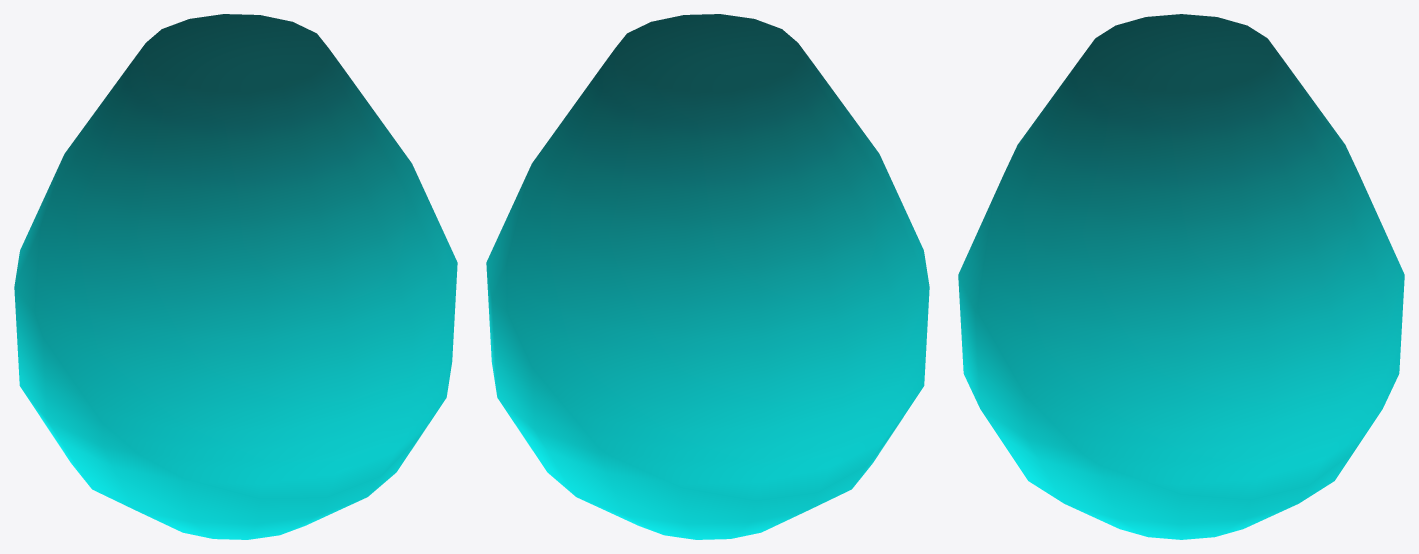
File: WaterDrop_75.glb
The picture shows the model from 3 angles, left to right: view 1: azimuth 30°, elevation 25°; view 2: azimuth 150°, elevation 25°; view 3: azimuth 270°, elevation 25°; orthographic projection.
Visible parts, largest first — view 1: WaterDrop_75; view 2: WaterDrop_75; view 3: WaterDrop_75.
Boxes of the visible parts, box(x1,y1,x2,y2) form: WaterDrop_75: box(14, 14, 457, 539); WaterDrop_75: box(486, 14, 929, 539); WaterDrop_75: box(958, 14, 1404, 539).
Bounding box in the file's own units: 0.5885 × 0.6686 × 0.5885.
Materials: 1 (1 with a texture image).
